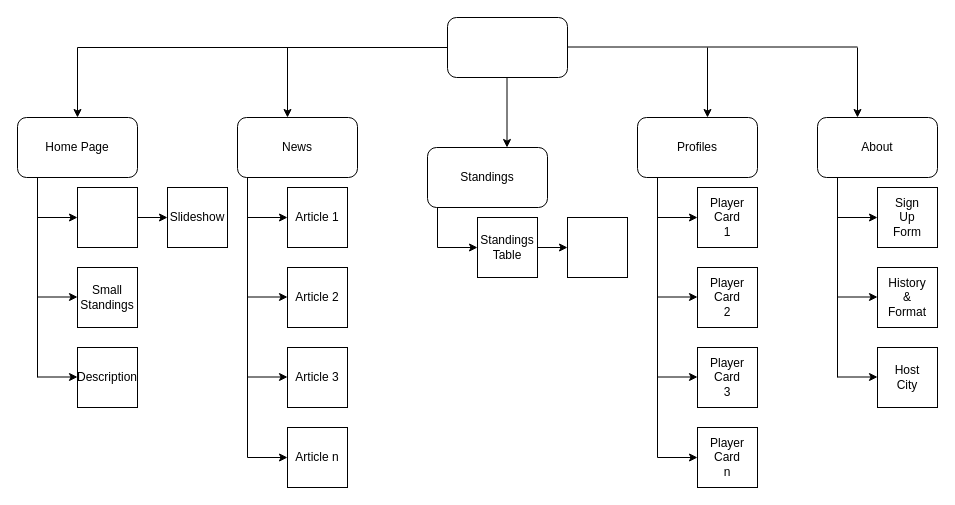
The diagram is 955 pixels wide and 505 high, and some of its shapes have lost their labels. The centre of each missing label's shape, as x and y in pixels:
"Featured Article" goes at point (107, 217).
"Home" goes at point (507, 47).
"Team Card" goes at point (597, 247).
